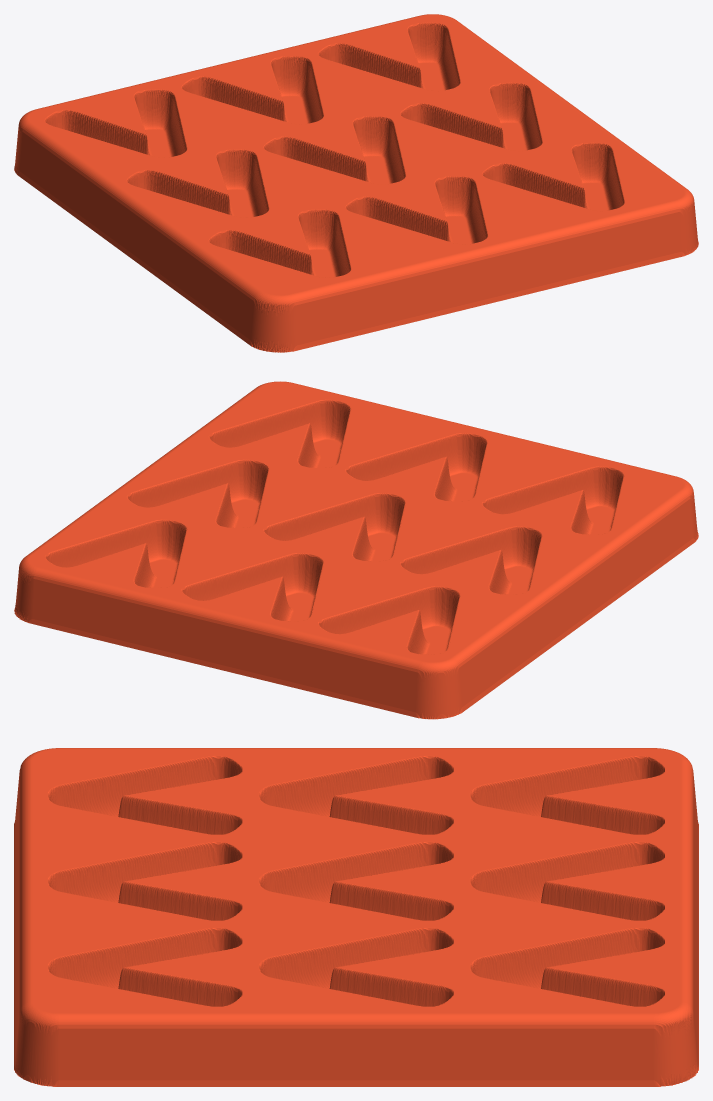
The model's file is mold.glb.
3 views of the same model, one above another, from view 1: azimuth 30°, elevation 25°; view 2: azimuth 150°, elevation 25°; view 3: azimuth 270°, elevation 25° (orthographic). The views are drawn at different scales.
Parts seen in each view (by area): view 1: geometry_0; view 2: geometry_0; view 3: geometry_0.
Part boxes in pixels (<box>): geometry_0: <box>14,14,698,352</box>; geometry_0: <box>14,381,698,719</box>; geometry_0: <box>14,748,698,1086</box>.
Size of the model in its own units: 0.1317 by 0.0145 by 0.1365.
